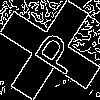P: (25, 25, 82, 78)
